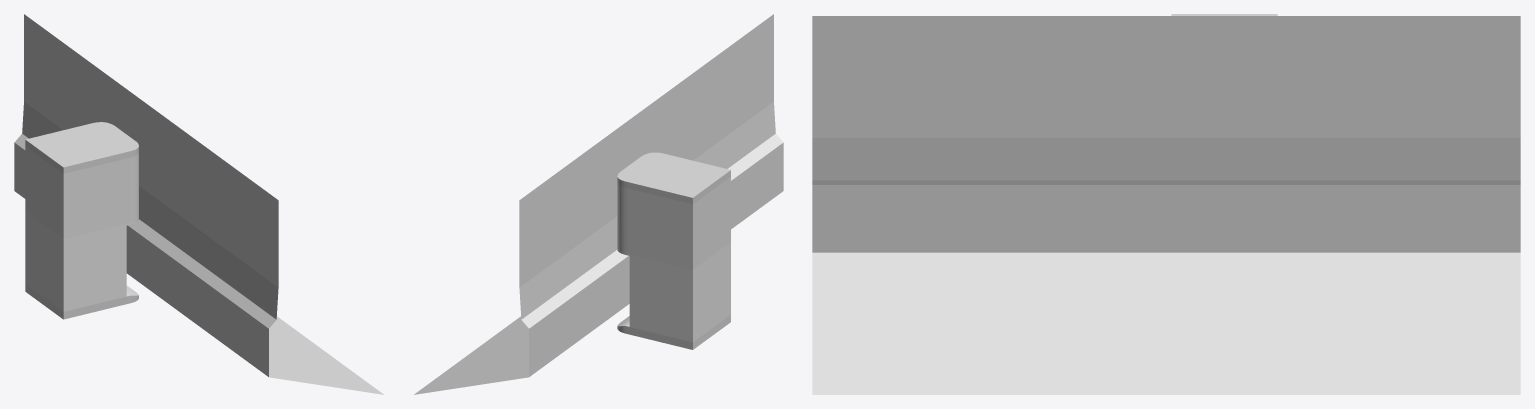
The model's file is Gashapon.fbx.
3 renders of one model, left to right at view 1: azimuth 30°, elevation 25°; view 2: azimuth 150°, elevation 25°; view 3: azimuth 270°, elevation 25°, orthographic. The views are drawn at different scales.
Visible parts, largest first — view 1: Fade, Cube.002, Cube.001, Cube.004; view 2: Fade, Cube.002, Cube.001, Cube.004; view 3: Fade.
Part boxes in pixels (x1,y1,x2,y2): Fade: (14,14,383,394); Cube.002: (25,122,138,240); Cube.001: (25,213,126,311); Cube.004: (25,284,138,319); Fade: (414,14,783,394); Cube.002: (617,152,730,271); Cube.001: (629,244,730,342); Cube.004: (617,315,730,349); Fade: (812,16,1520,394).
Size of the model in its own units: 601 by 660 by 1380.
Materials: 4 (3 with a texture image).
